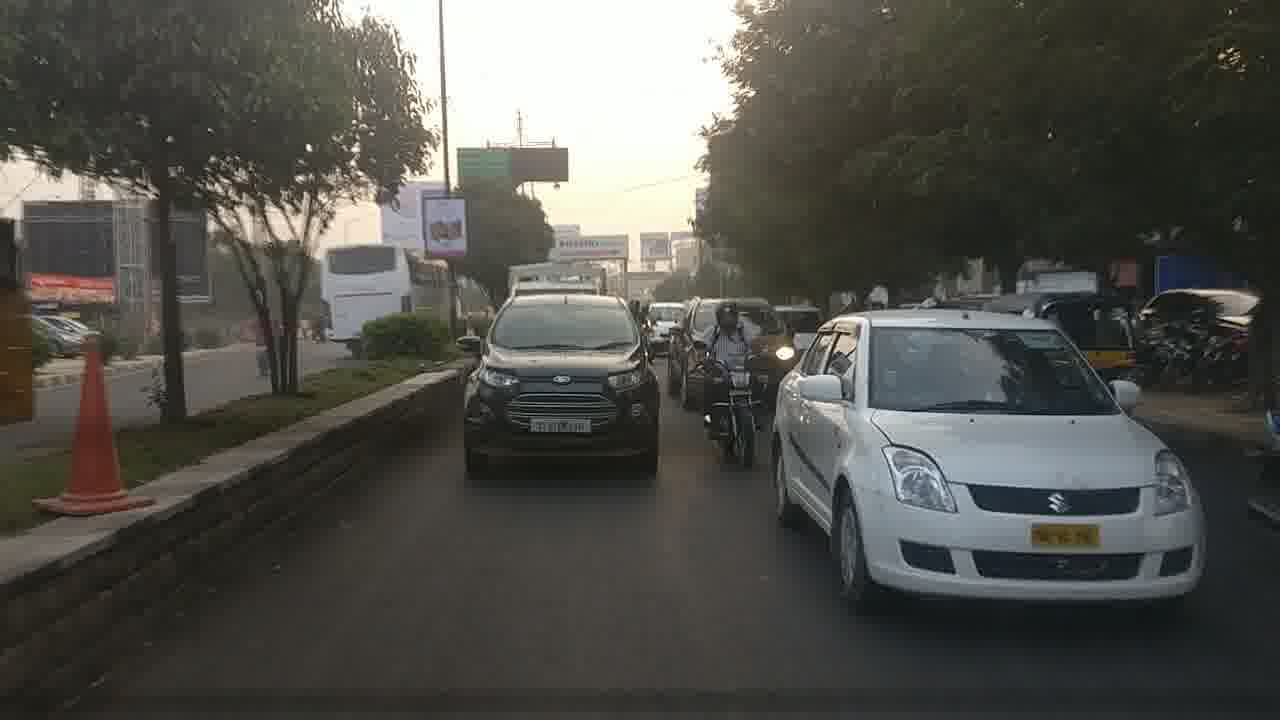swift desire: (774, 317, 1208, 598)
